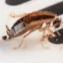cockroach: (6, 11, 61, 39)
